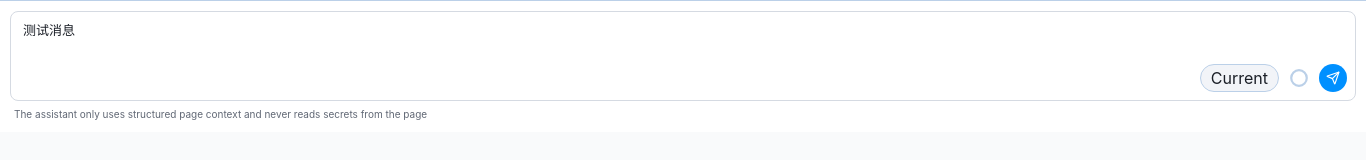
Test: ai assistant composer keyboard submission › shows unavailable Provider usage as a gray ring without persistent copy
The width and height of the screenshot is (1366, 160).
Expected: the text "No Provider usage data" is not shown
Step 1. Hover over the button named "No Provider usage data" → (1299, 78), box [1285,64,1313,92]
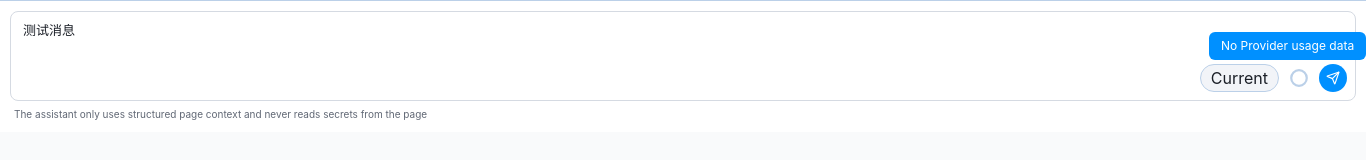
Now the tooltip reads "No Provider usage data", box [1221,38,1354,53]
